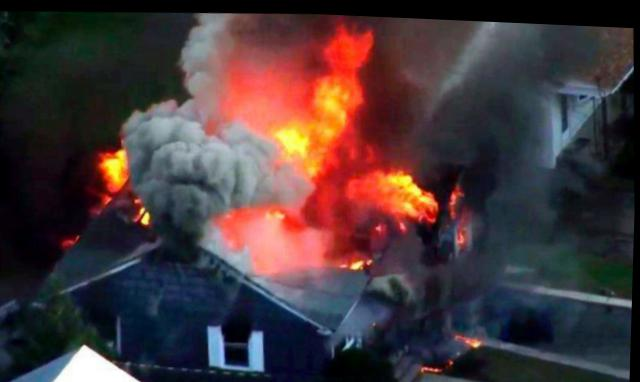fire: (84, 10, 450, 284), (424, 322, 485, 371), (451, 182, 475, 244)
